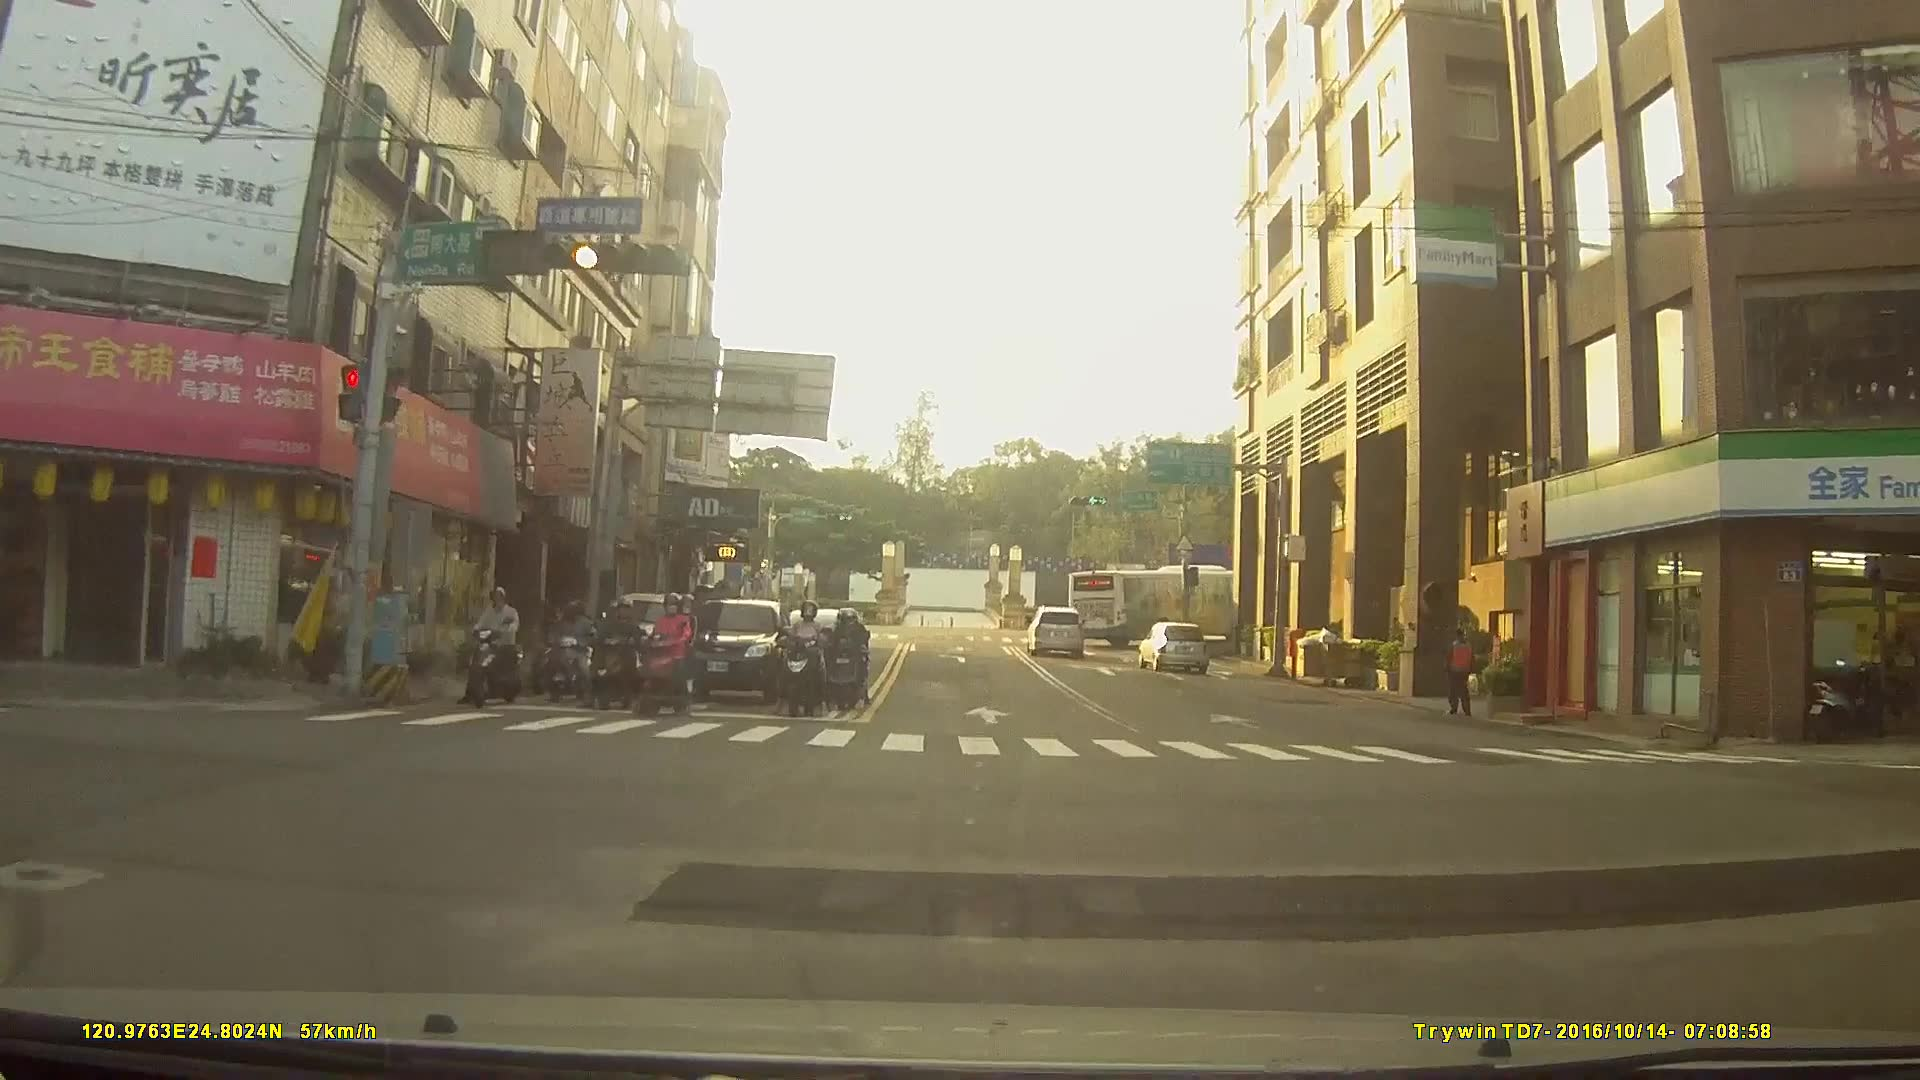pedestrian: (1445, 631, 1477, 721)
rider: (632, 596, 702, 726), (463, 592, 529, 711), (589, 600, 645, 711), (782, 608, 836, 721), (541, 602, 594, 708), (822, 616, 871, 715)
vehicle: (1066, 564, 1258, 644), (664, 595, 787, 703), (1136, 619, 1210, 672), (1025, 604, 1086, 655)
